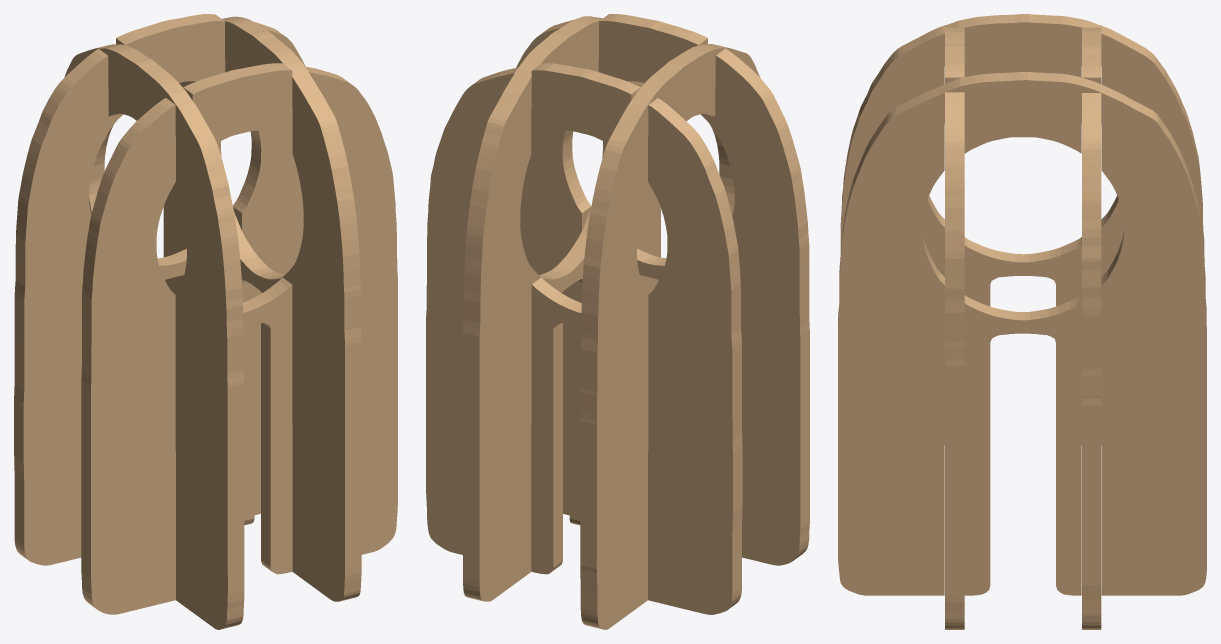
The model's file is samla.glb.
3 renders of one model, left to right at view 1: azimuth 30°, elevation 25°; view 2: azimuth 150°, elevation 25°; view 3: azimuth 270°, elevation 25°, orthographic.
Visible parts, largest first — view 1: slicer-bladstemning; view 2: slicer-bladstemning; view 3: slicer-bladstemning.
Boxes of the visible parts, x1,y1,x2,y2 form: slicer-bladstemning: (14,14,397,629); slicer-bladstemning: (426,14,809,629); slicer-bladstemning: (838,14,1206,629).
Size of the model in its own units: 0.0737 by 0.1164 by 0.0755.
